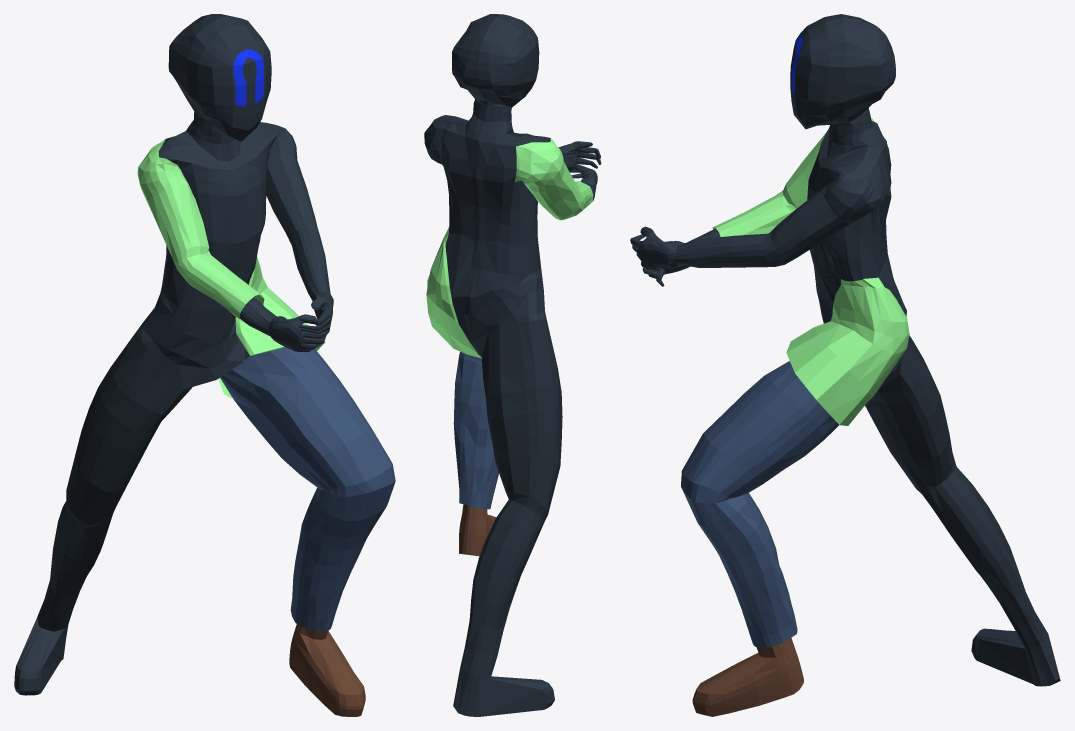
File: Mar_WR_000024.obj
3 views of the same model, side by side, from view 1: azimuth 30°, elevation 25°; view 2: azimuth 150°, elevation 25°; view 3: azimuth 270°, elevation 25° (orthographic). The views are drawn at different scales.
Parts seen in each view (by area): view 1: Cube.000_Cube.001; view 2: Cube.000_Cube.001; view 3: Cube.000_Cube.001.
Part boxes in pixels (box(x1,y1,x2,y2)): Cube.000_Cube.001: box(14, 14, 395, 716); Cube.000_Cube.001: box(424, 14, 601, 716); Cube.000_Cube.001: box(630, 14, 1060, 716).
Bounding box in the file's own units: 1.32 × 3.71 × 2.07.
